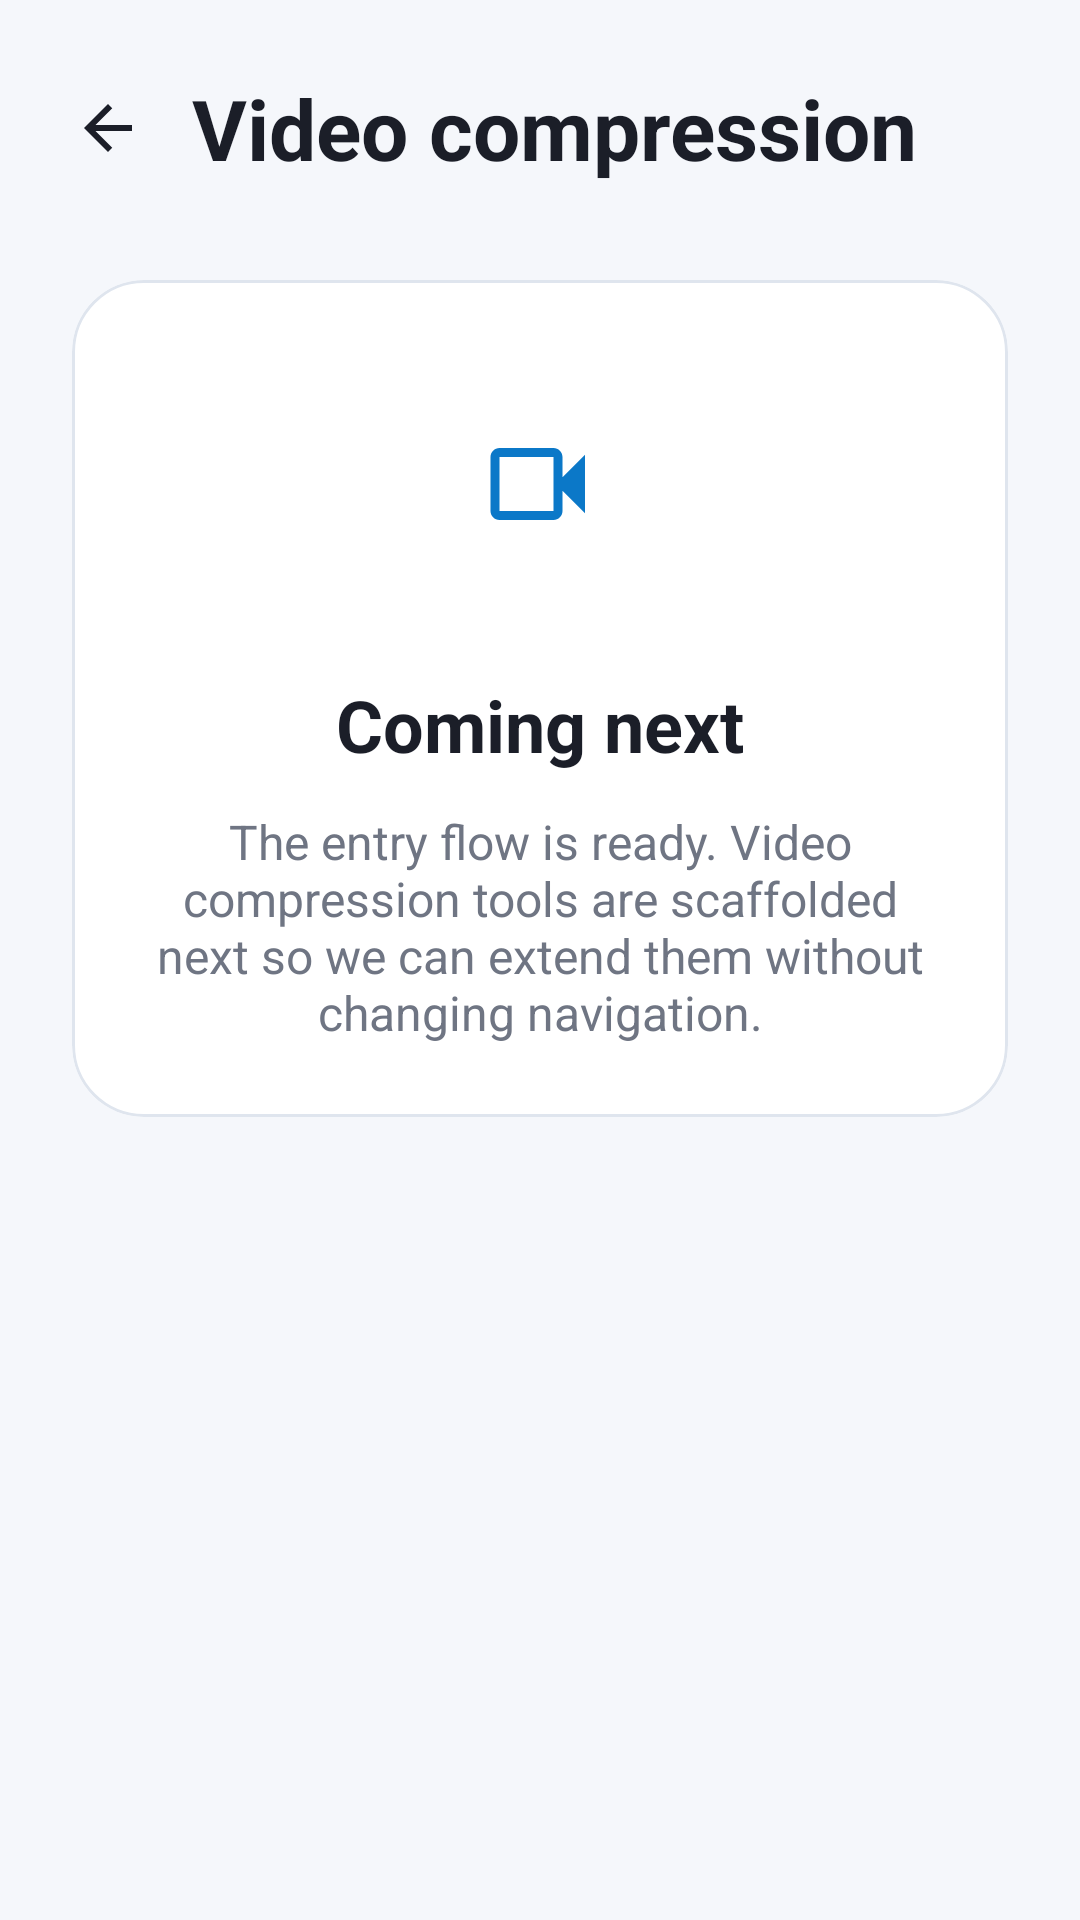

Icon click points for this 1080×1920 phone screenshot, format (x,y):
back arrow: (108,128)
video: (537,484)
